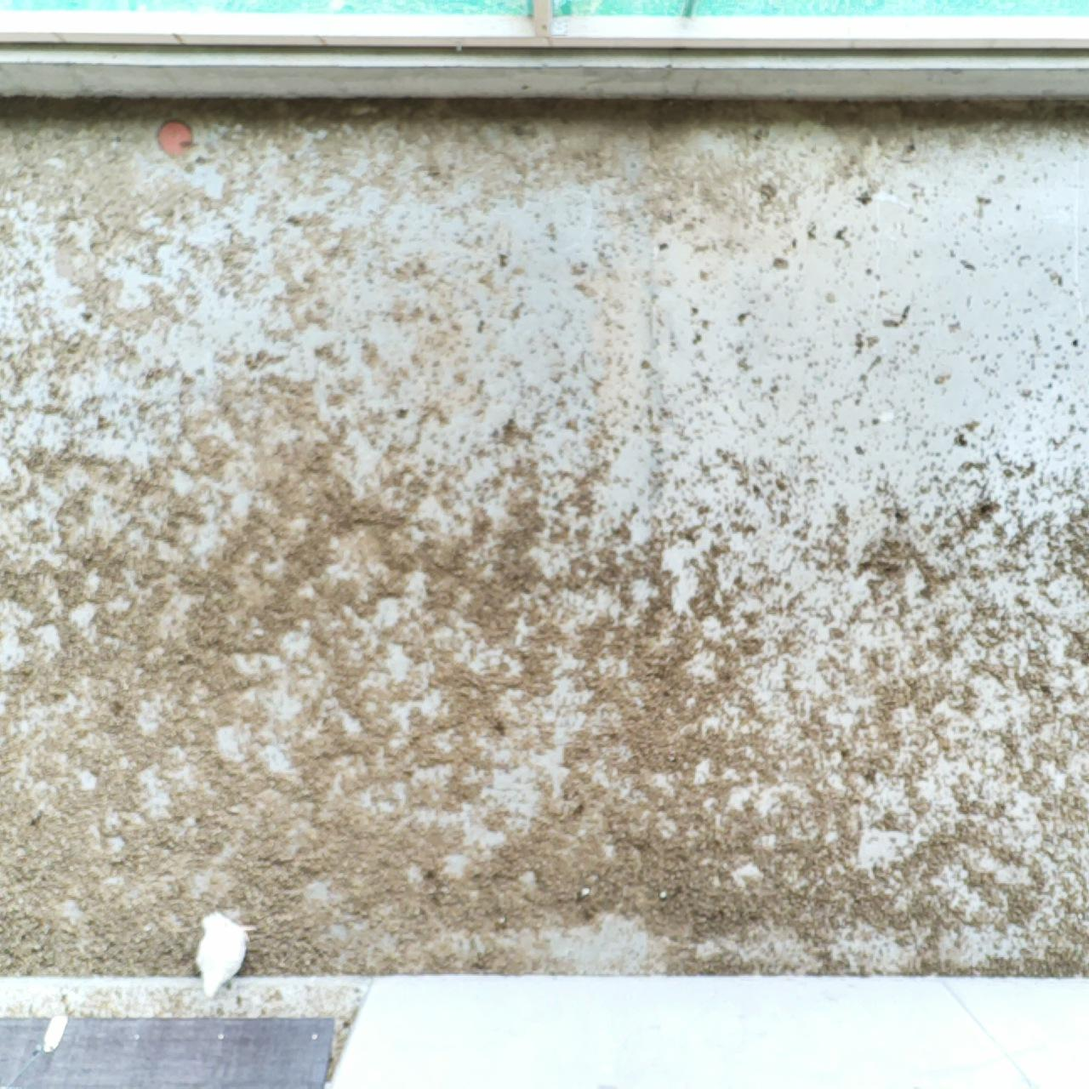chicken: (187, 907, 262, 1001)
